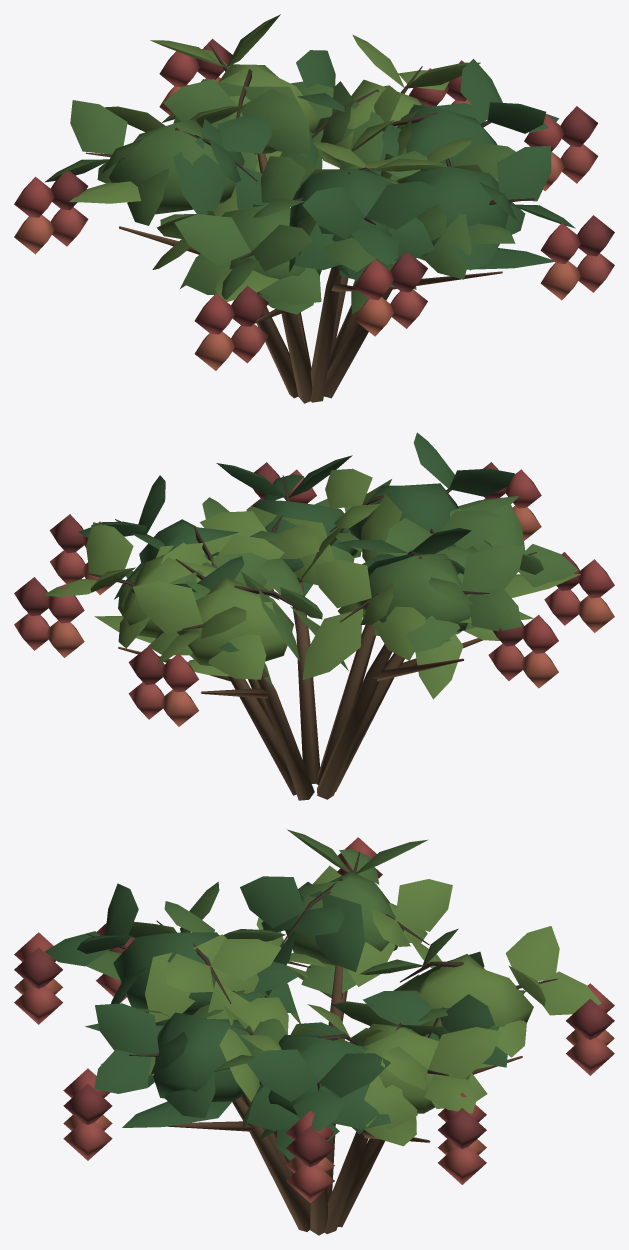
Rendered from woodland_bush_berry.hi.glb.
3 views of the same model, one above another, from view 1: azimuth 30°, elevation 25°; view 2: azimuth 150°, elevation 25°; view 3: azimuth 270°, elevation 25° (orthographic). The views are drawn at different scales.
Parts seen in each view (by area): view 1: body; view 2: body; view 3: body.
Part boxes in pixels (bbox=[...]): body: bbox=[14, 14, 614, 403]; body: bbox=[14, 432, 614, 800]; body: bbox=[14, 829, 614, 1235].
Bounding box in the file's own units: 1.51 × 0.7747 × 1.41.
